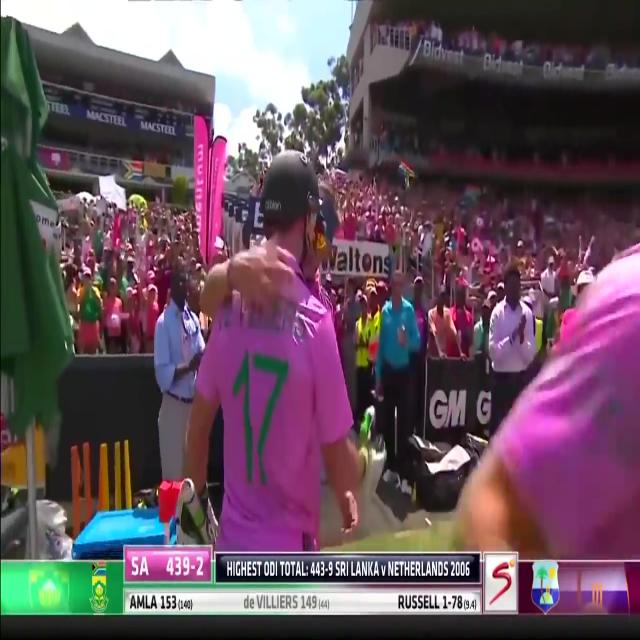Ball: (181, 149, 370, 551)
